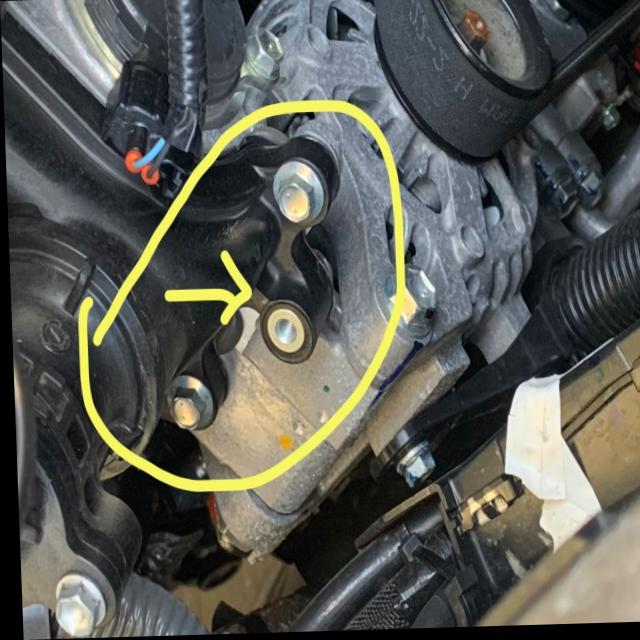Missing bolt: (259, 305, 307, 359)
Regular bolt: (386, 266, 435, 339), (49, 579, 101, 636), (271, 169, 322, 226), (165, 379, 211, 436), (243, 28, 285, 81), (396, 449, 436, 493), (574, 167, 607, 213), (549, 177, 579, 220)
